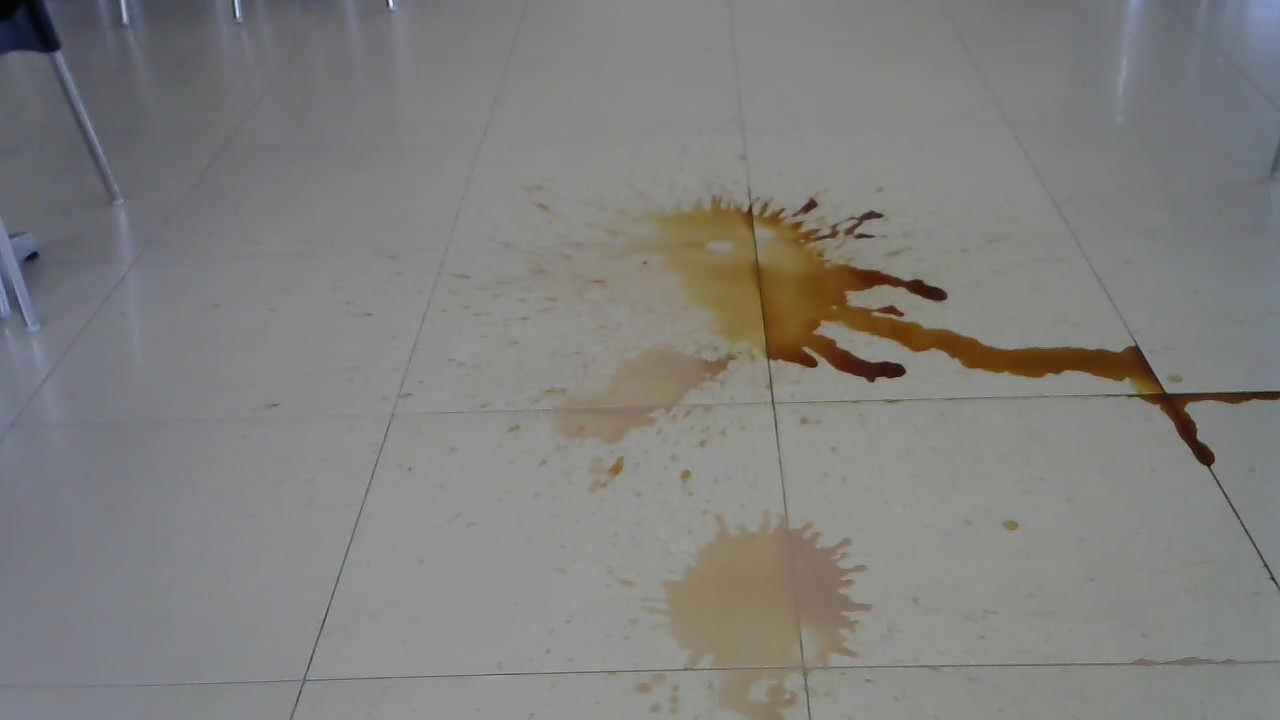dirty_floor: (560, 187, 1234, 477), (628, 517, 885, 712), (534, 344, 740, 486)
